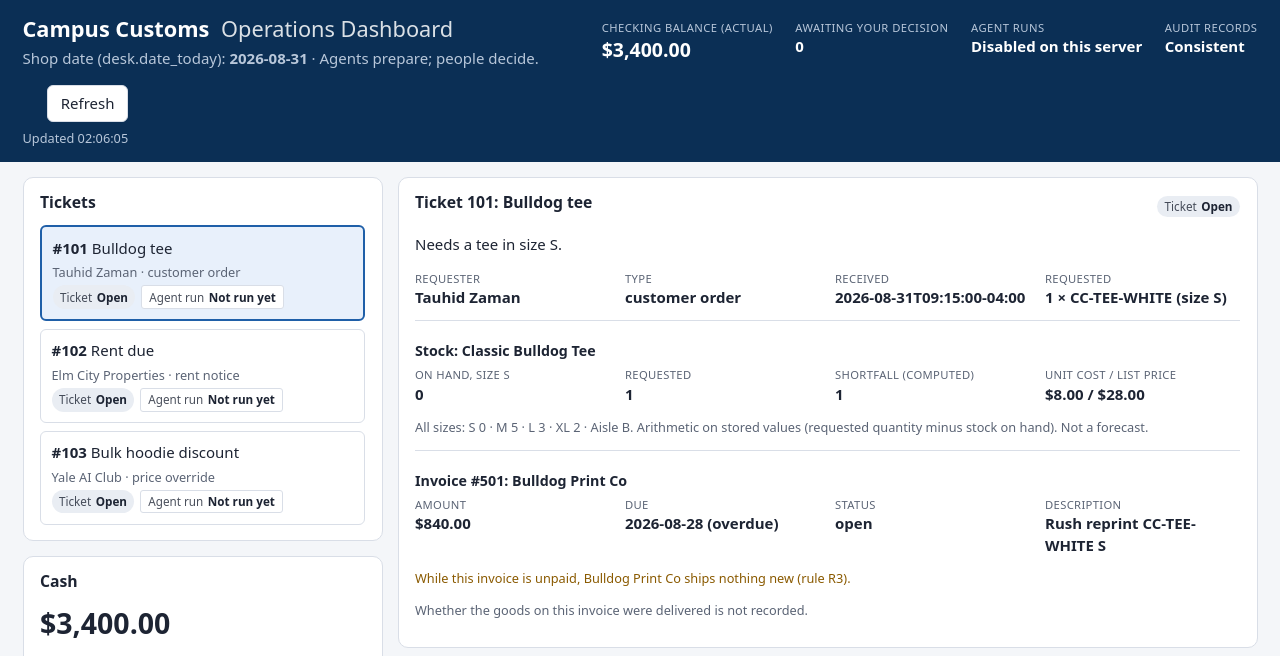
tickets and facts › shows each ticket's underlying issue and its stored financial or inventory facts
The width and height of the screenshot is (1280, 656).
expect the heading "Ticket 101: Bulldog tee" is shown: met, box [415, 193, 592, 213]
expect the text with test id "on-hand" reads "0": met, box [415, 384, 424, 404]
Click the button with aria-label "Ticket 103: Bulk hoodie discount, open" at (202, 478), box [40, 430, 365, 525]
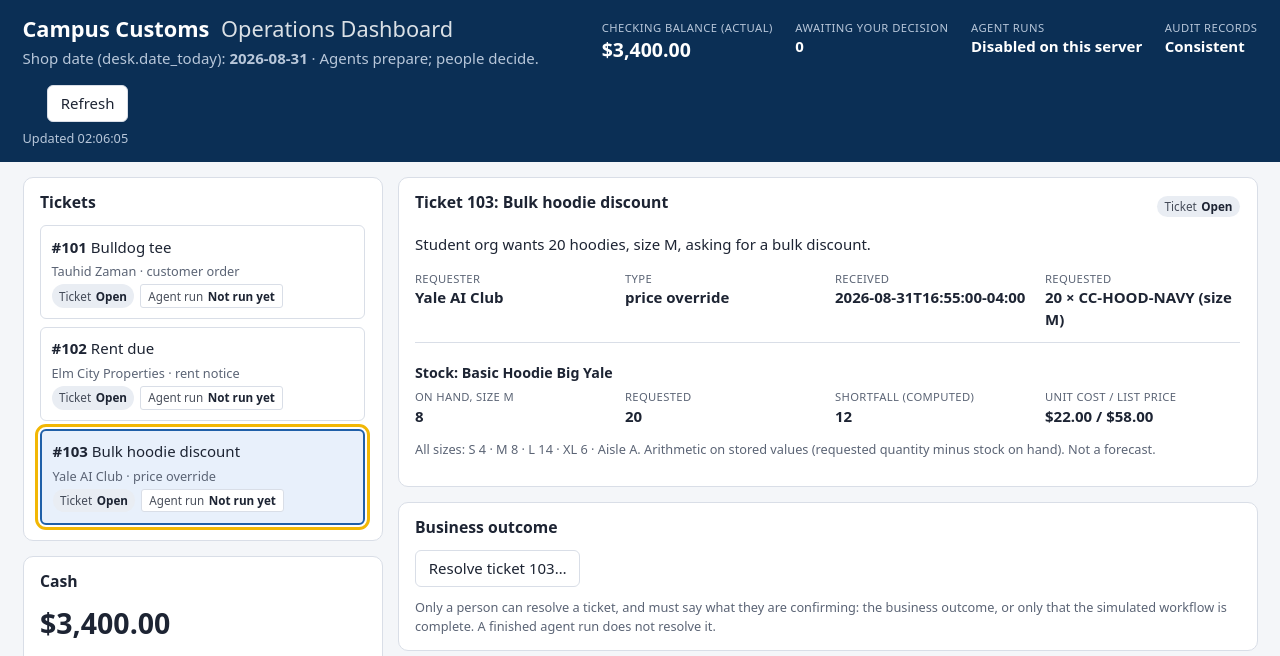
expect the text with test id "on-hand" reads "8": met, box [415, 406, 424, 426]
expect the text with test id "shortfall" reads "12": met, box [835, 406, 852, 426]
expect the text "$22.00 / $58.00" is shown: met, box [1045, 406, 1153, 426]
Click the button with aria-label "Ticket 102: Rent due, open" at (202, 374), box [40, 327, 365, 421]
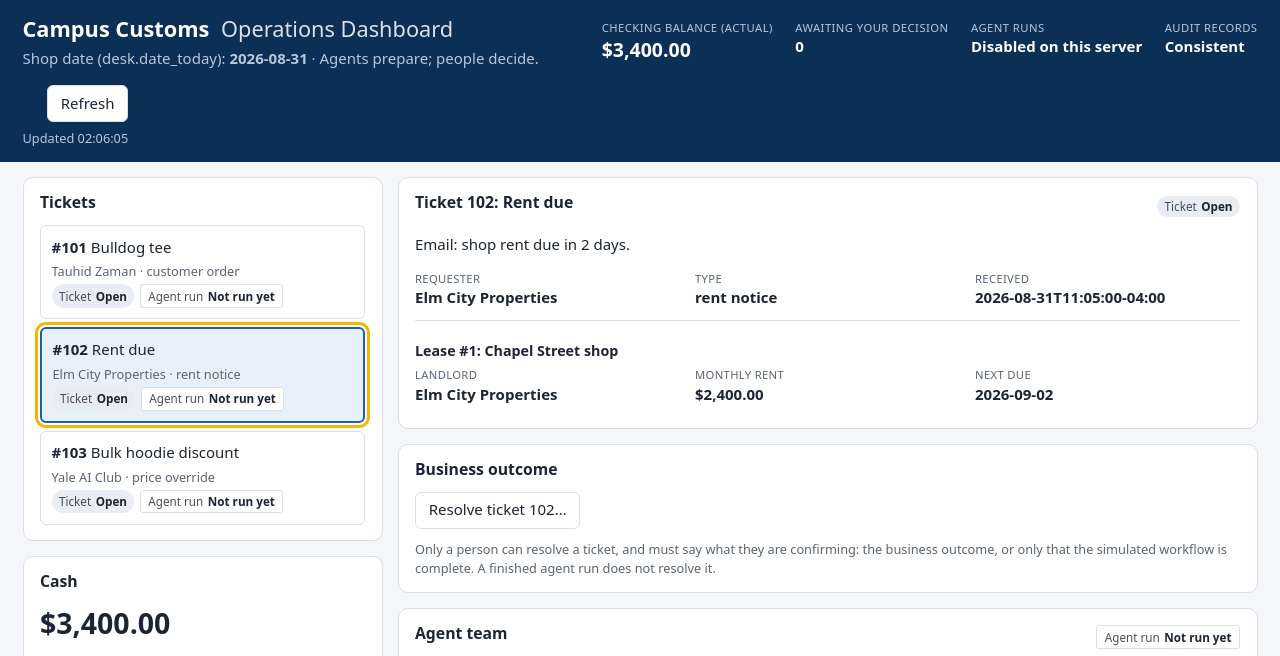
expect the heading "Lease #1: Chapel Street shop" is shown: met, box [415, 341, 618, 360]
expect the text "$2,400.00" is shown: met, box [695, 384, 764, 404]
expect the text with test id "on-hand" is gone: met
